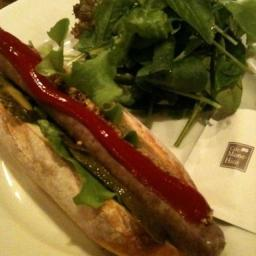hotdog: (92, 142, 220, 256), (36, 80, 98, 152), (0, 24, 40, 100)
